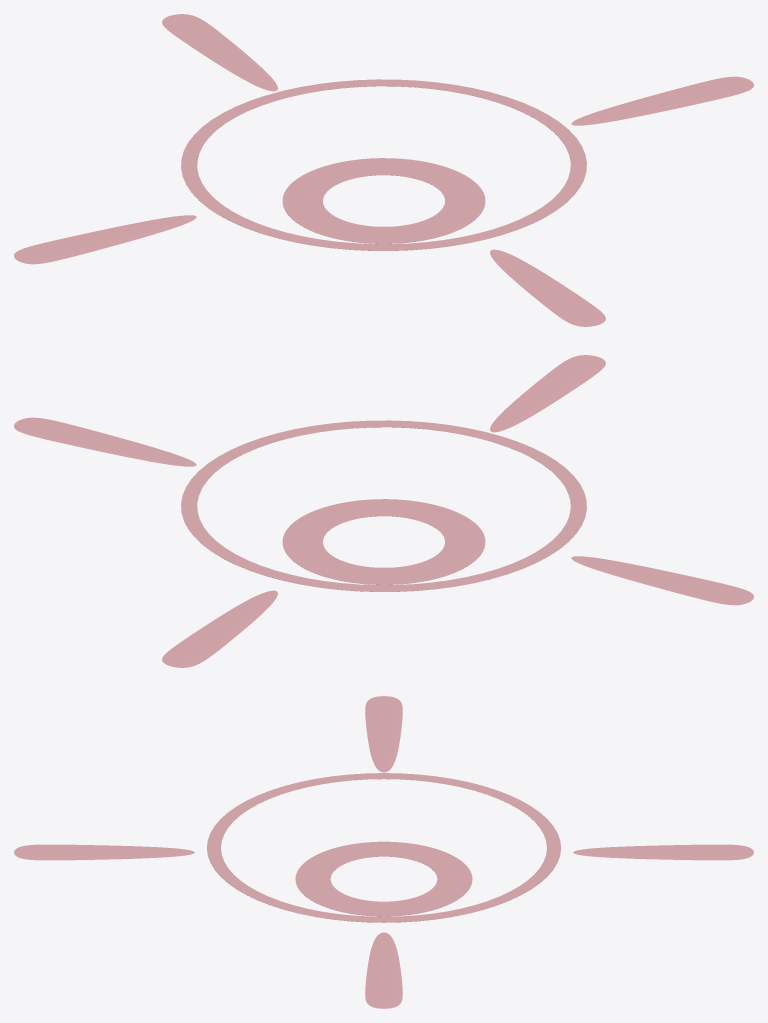
Rendered from Hanako.fbx.
3 views of the same model, one above another, from view 1: azimuth 30°, elevation 25°; view 2: azimuth 150°, elevation 25°; view 3: azimuth 270°, elevation 25° (orthographic). The views are drawn at different scales.
Parts seen in each view (by area): view 1: 羽小, 円大, 円小; view 2: 羽小, 円大, 円小; view 3: 羽小, 円大, 円小.
Part boxes in pixels (x1=…): 羽小: x1=14, y1=14, x2=753, y2=326; 円大: x1=181, y1=79, x2=586, y2=250; 円小: x1=282, y1=158, x2=485, y2=243; 羽小: x1=14, y1=355, x2=753, y2=667; 円大: x1=181, y1=420, x2=586, y2=591; 円小: x1=282, y1=499, x2=485, y2=584; 羽小: x1=14, y1=696, x2=753, y2=1008; 円大: x1=207, y1=773, x2=560, y2=922; 円小: x1=295, y1=841, x2=472, y2=916.
Size of the model in its own units: 752 by 35.1 by 752.
